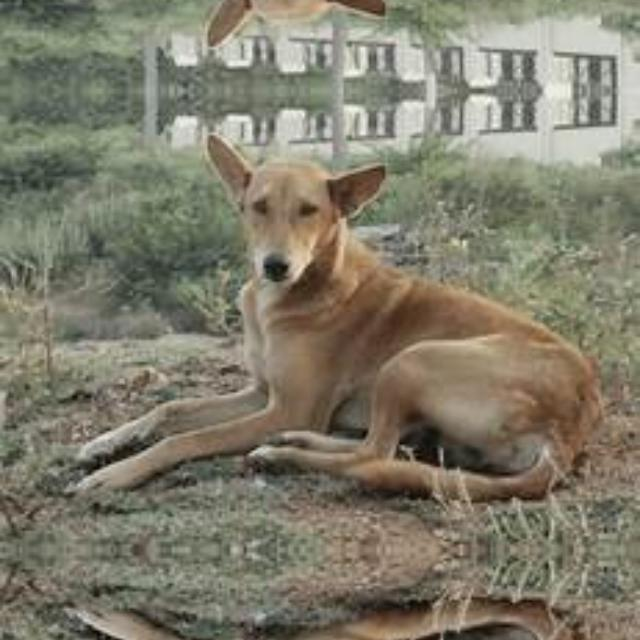dog: (75, 142, 611, 534), (75, 565, 611, 640), (75, 0, 611, 38)
